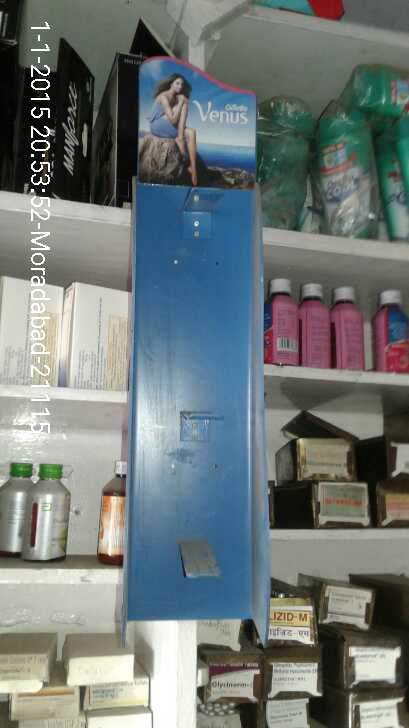reject: (161, 307, 226, 385)
